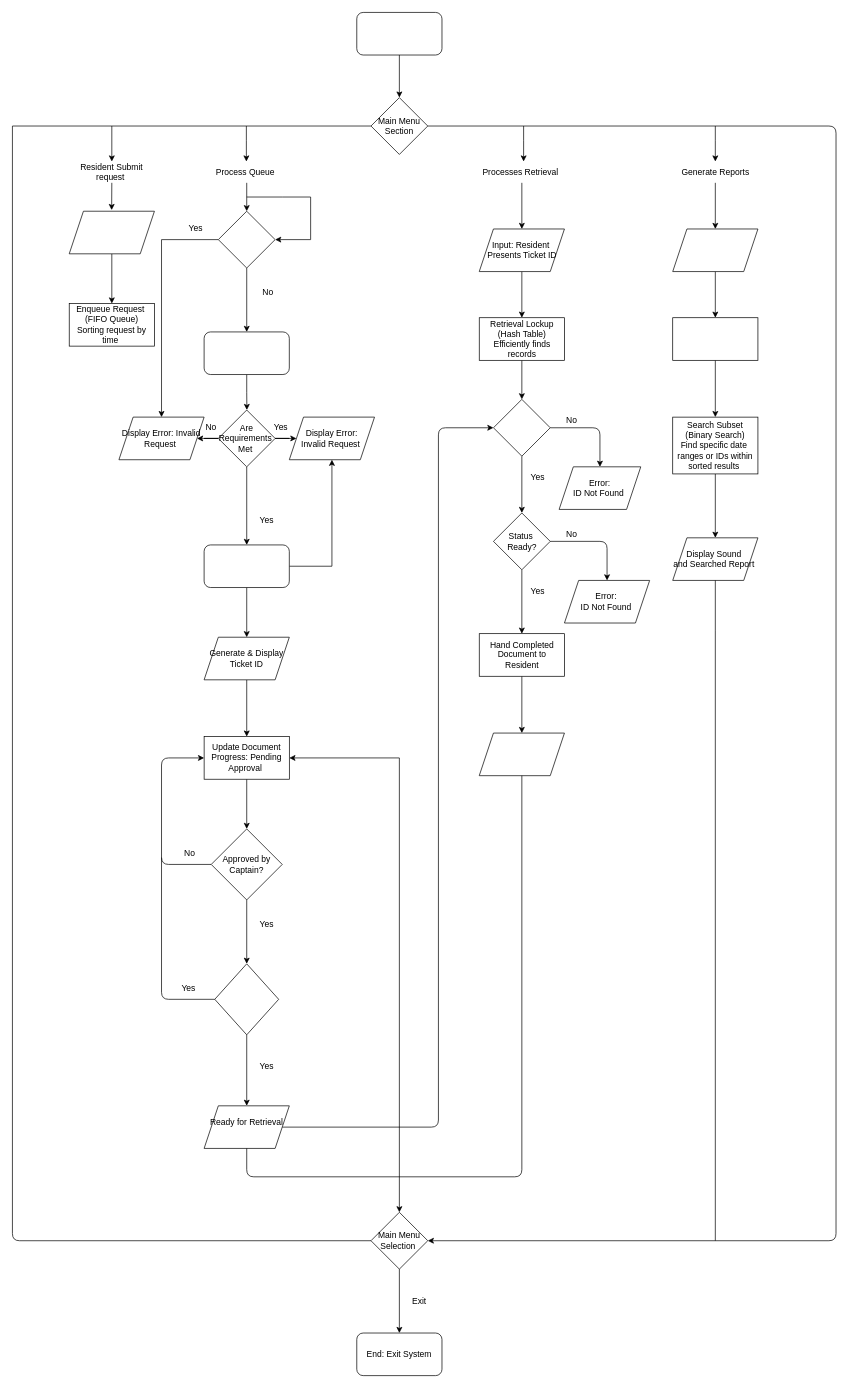
Image size: 854x1388. Some labels were removed from this diagram. The box of each missing label's shape, as (x1, y1, x2, y2) in pixels:
Barangay Docs System: (356, 12, 442, 55)
Dequeue Top Request: Clerk Verifies: (203, 331, 289, 375)
Final Reading Complete: (214, 963, 279, 1035)
Input: Resident & Document Request: (69, 211, 154, 254)
Input: Select Report Criteria (eg, Date, ID, Status): (672, 228, 758, 272)
Queue Empty?: (218, 211, 275, 268)
Record Found?: (493, 399, 550, 456)
Record Request: (203, 544, 289, 588)
Sort Filtered Requests (Merge Short) Organize data efficiently: (672, 317, 758, 360)
Update Record: Handed Over: (479, 732, 564, 776)
